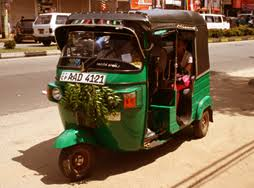tuk tuk: (45, 10, 216, 180)
